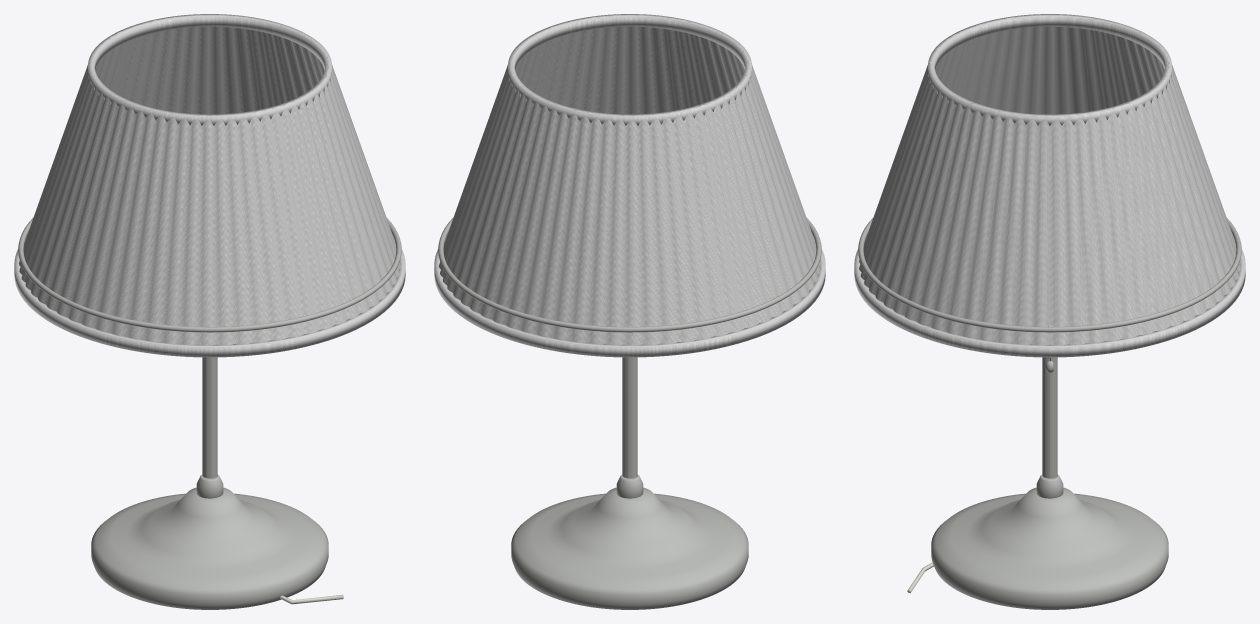
File: table-lamp-pleated.glb
3 renders of one model, left to right at view 1: azimuth 30°, elevation 25°; view 2: azimuth 150°, elevation 25°; view 3: azimuth 270°, elevation 25°, orthographic.
Parts seen in each view (by area): view 1: Hollow woven shade, Weighted stepped lamp base, Bound lampshade edge.001, Bound lampshade edge, Shade mounting ring, Continuous slender lamp stem, Stem base collar; view 2: Hollow woven shade, Weighted stepped lamp base, Bound lampshade edge.001, Bound lampshade edge, Shade mounting ring, Continuous slender lamp stem, Stem base collar; view 3: Hollow woven shade, Weighted stepped lamp base, Bound lampshade edge.001, Bound lampshade edge, Shade mounting ring, Continuous slender lamp stem, Stem base collar.
Part boxes in pixels (box(x1,y1,x2,y2)): Hollow woven shade: box(19, 14, 400, 345); Weighted stepped lamp base: box(91, 487, 328, 609); Bound lampshade edge.001: box(88, 14, 331, 125); Bound lampshade edge: box(14, 236, 405, 357); Shade mounting ring: box(18, 217, 401, 332); Continuous slender lamp stem: box(202, 357, 217, 478); Stem base collar: box(196, 474, 223, 498); Hollow woven shade: box(439, 14, 820, 345); Weighted stepped lamp base: box(511, 487, 748, 609); Bound lampshade edge.001: box(508, 14, 751, 125); Bound lampshade edge: box(434, 236, 825, 357); Shade mounting ring: box(438, 217, 821, 332); Continuous slender lamp stem: box(622, 357, 637, 478); Stem base collar: box(616, 474, 643, 498); Hollow woven shade: box(859, 15, 1240, 345); Weighted stepped lamp base: box(931, 487, 1168, 609); Bound lampshade edge.001: box(928, 14, 1171, 125); Bound lampshade edge: box(854, 240, 1245, 357); Shade mounting ring: box(858, 218, 1241, 332); Continuous slender lamp stem: box(1042, 357, 1057, 478); Stem base collar: box(1036, 474, 1063, 498).
Bounding box in the file's own units: 0.356 × 0.5 × 0.356.
Materials: 4 (1 with a texture image).
